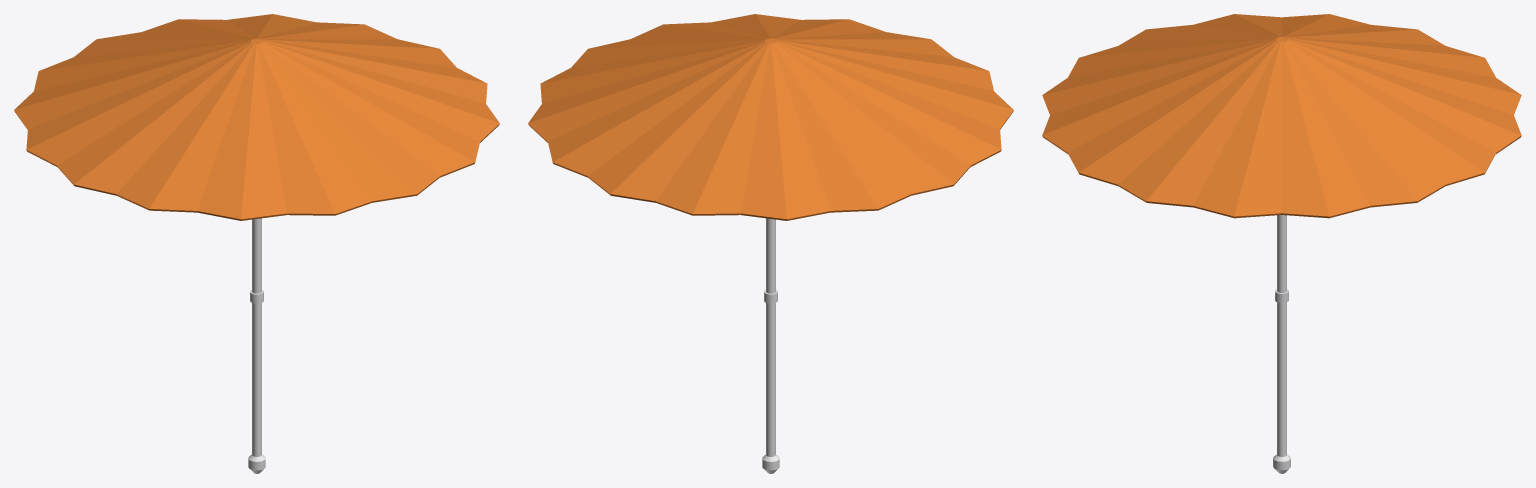
The model's file is Parasol_OPN.fbx.
The picture shows the model from 3 angles, left to right: view 1: azimuth 30°, elevation 25°; view 2: azimuth 150°, elevation 25°; view 3: azimuth 270°, elevation 25°; orthographic projection.
Parts seen in each view (by area): view 1: Circle.001; view 2: Circle.001; view 3: Circle.001.
Boxes of the visible parts, x1=… form: Circle.001: x1=14, y1=14, x2=499, y2=473; Circle.001: x1=528, y1=14, x2=1013, y2=473; Circle.001: x1=1042, y1=14, x2=1521, y2=473.
Bounding box in the file's own units: 481 × 479 × 481.
